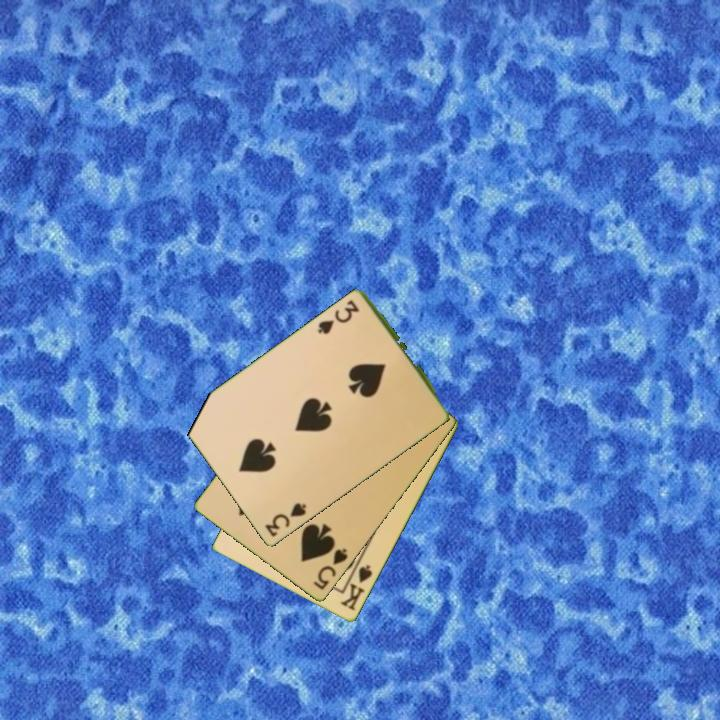3s: (261, 499, 310, 540), (315, 297, 362, 337)
5s: (310, 545, 351, 593)
Ks: (337, 558, 376, 614)
